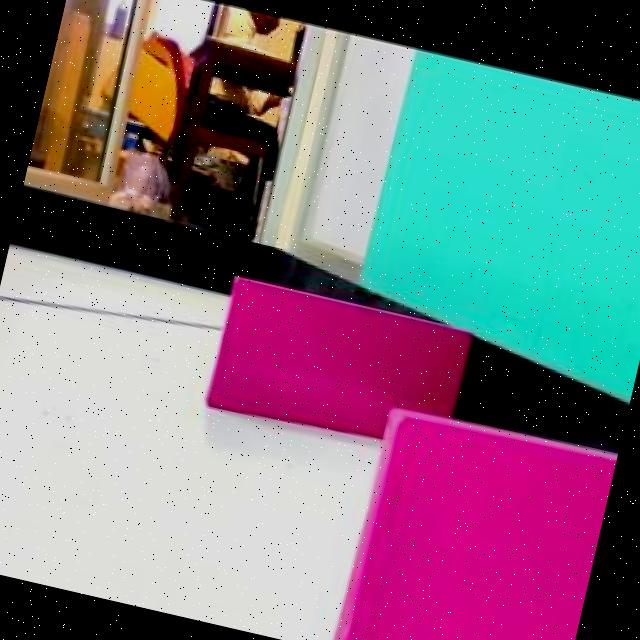xparking: (335, 418, 613, 640), (212, 278, 404, 434)
